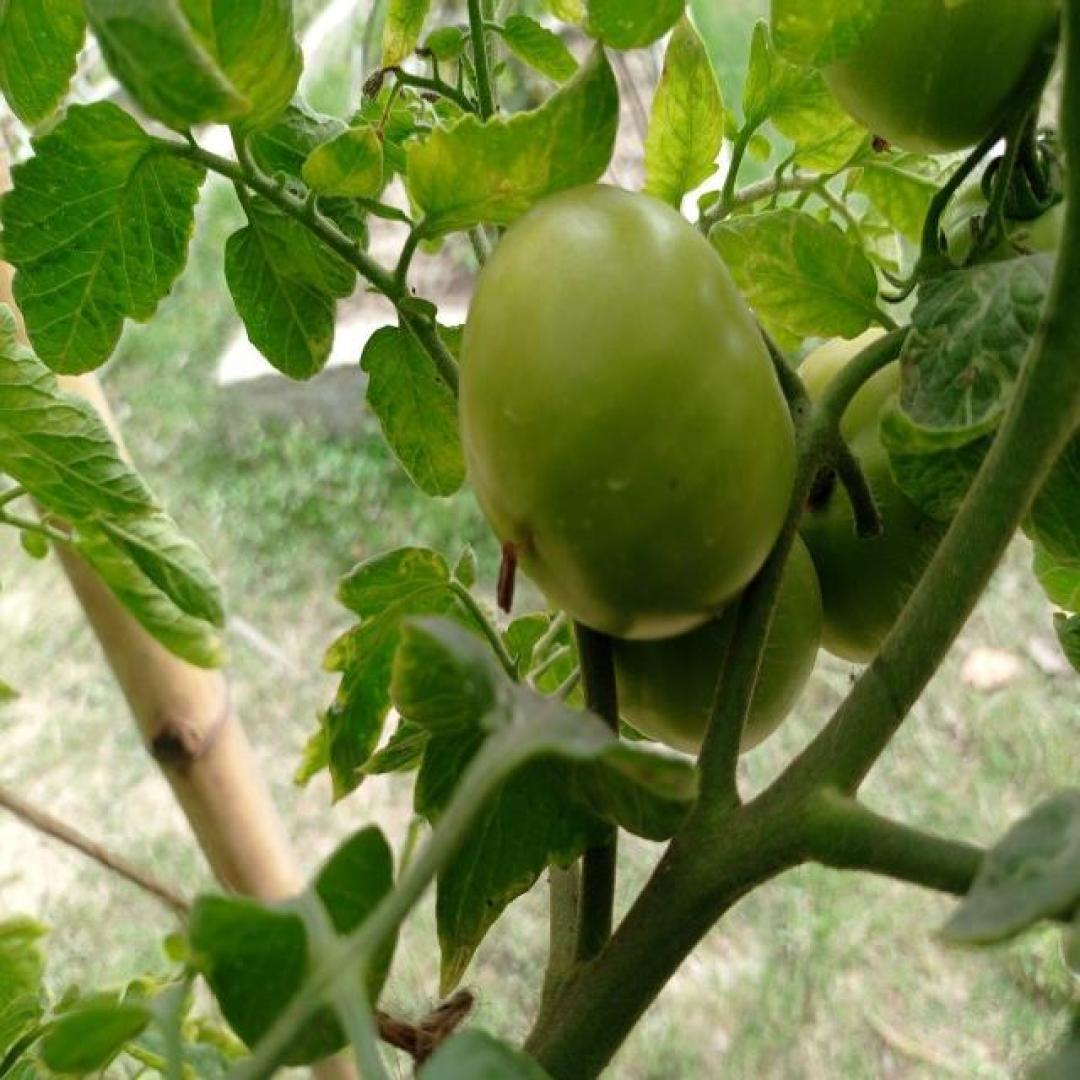mentah: (457, 182, 795, 642)
